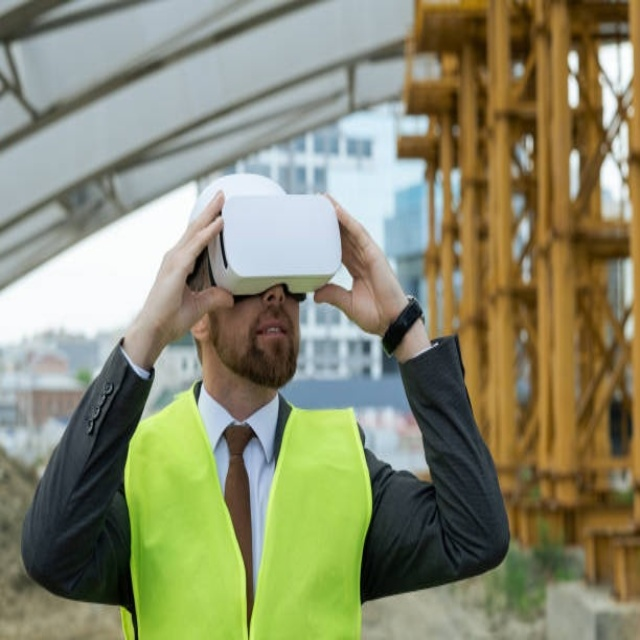Sin_guantes: (138, 190, 238, 357), (311, 198, 408, 343)
Sin_mascara: (251, 312, 293, 369)
